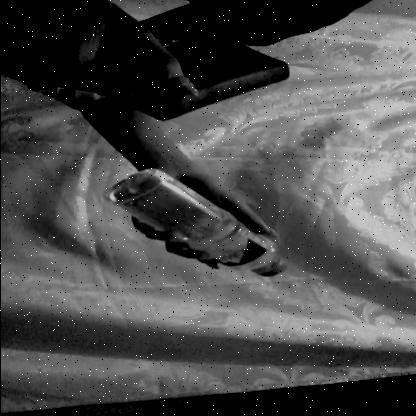Plastic Bottle: (99, 149, 290, 305)
